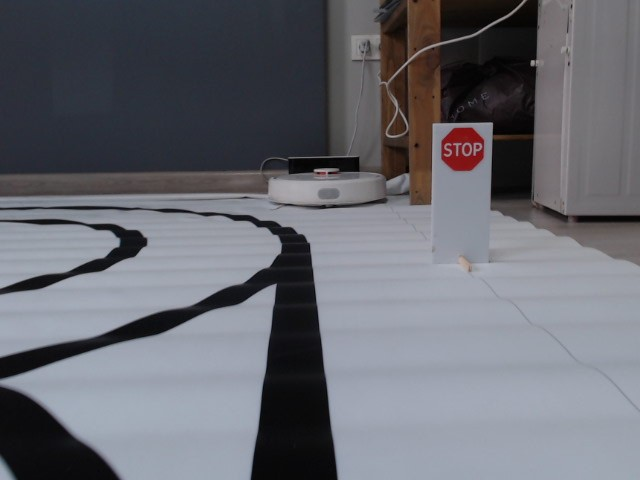Stop: (438, 126, 486, 173)
